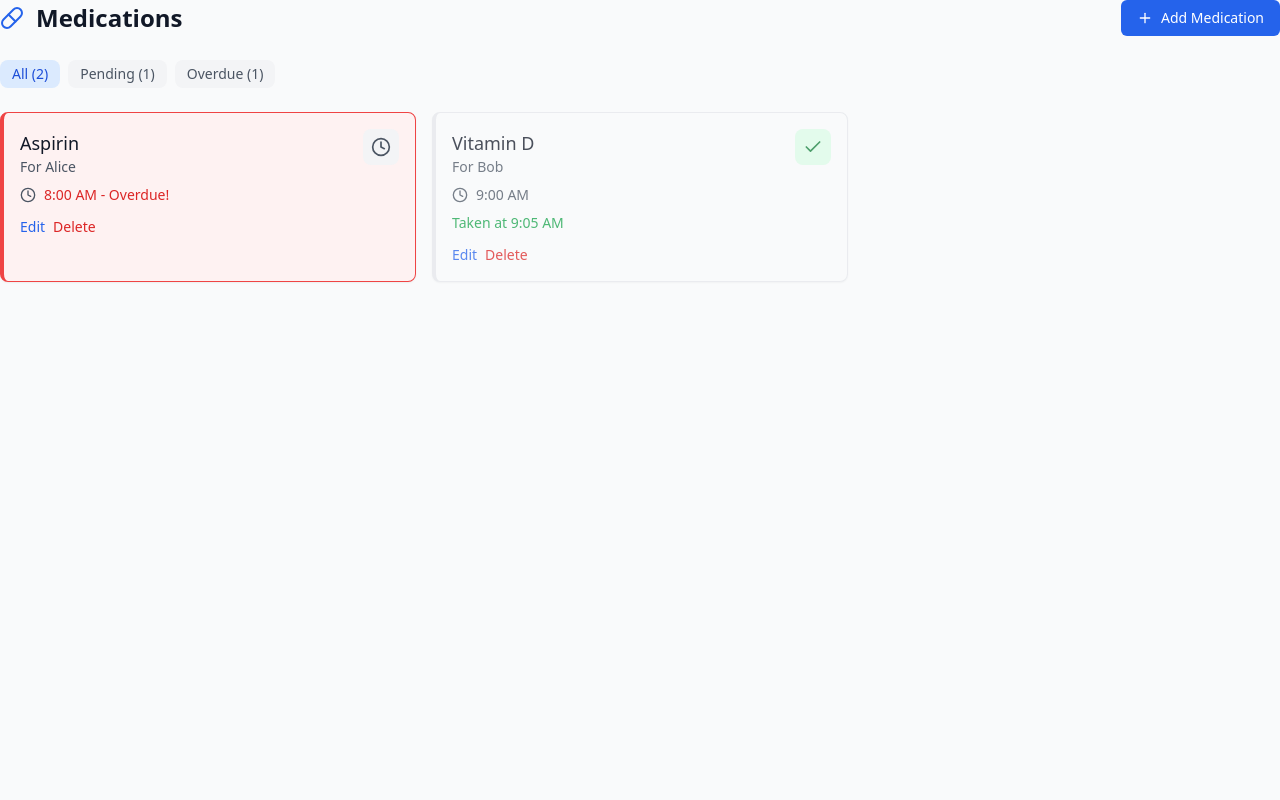
Test: MedicationTracker › opens add form dialog
The image size is (1280, 800).
Click the button "Add Medication" at (1200, 18), box top-left (1121, 0), bottom-right (1279, 36)
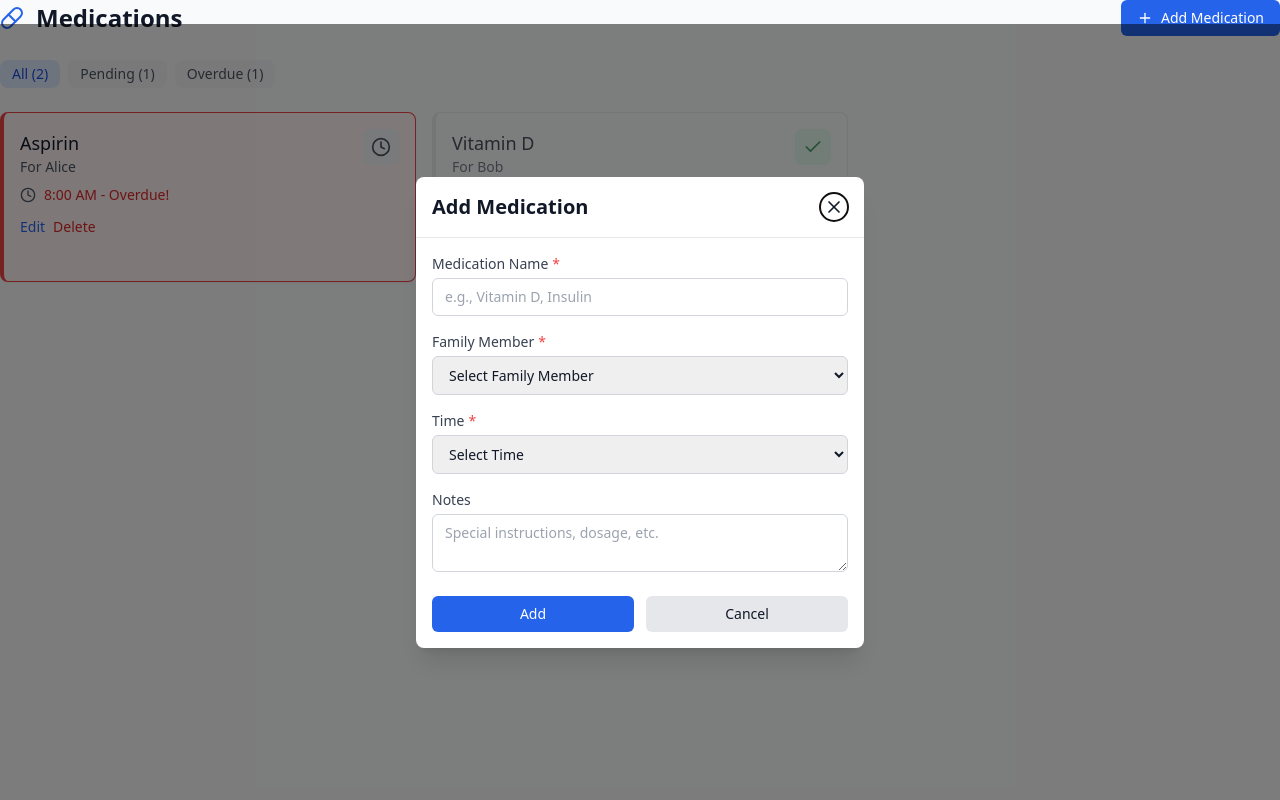
expect the dialog is shown: met, box top-left (416, 176), bottom-right (864, 648)
